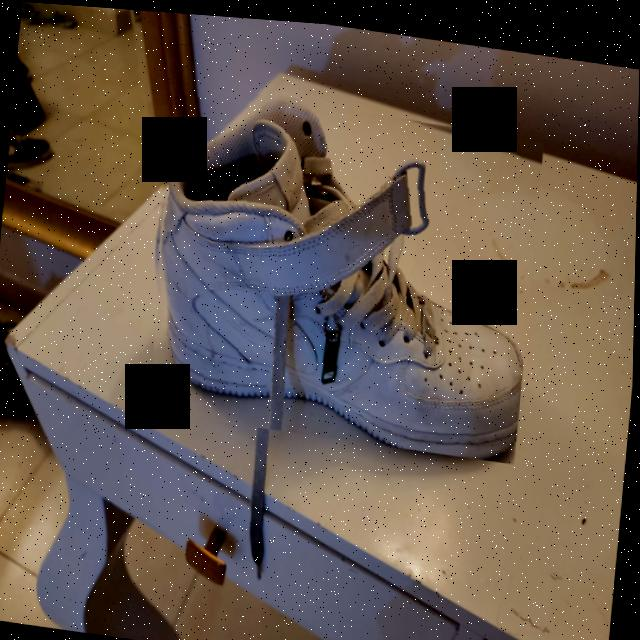shoe: (139, 73, 545, 457)
